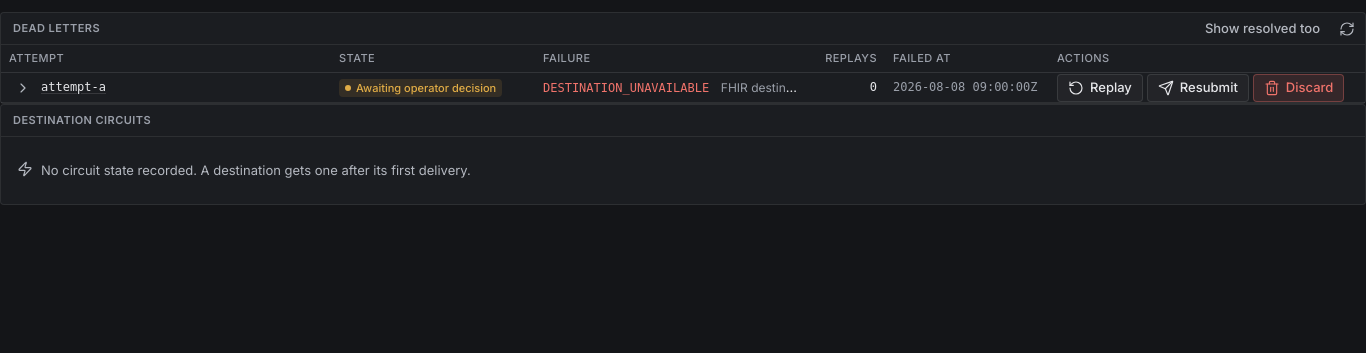
DeliveryConsole › opens a dead letter’s Delivery block on demand, once per row
This screenshot has width=1366, height=353.
Step 1. Click the button named "Show delivery" → (23, 88), box x1=9 y1=74 x2=37 y2=102
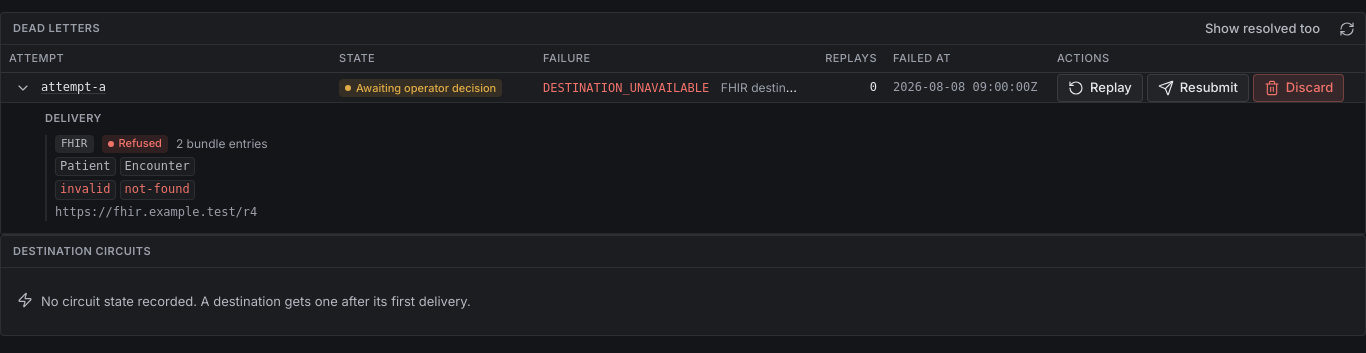
Now the text "FHIR" is shown, box x1=55 y1=135 x2=94 y2=153
Now the text "Refused" is shown, box x1=102 y1=135 x2=168 y2=153
Now the list item "not-found" is shown, box x1=120 y1=180 x2=195 y2=200
Step 2. Click the button named "Hide delivery" → (23, 88), box x1=9 y1=74 x2=37 y2=102
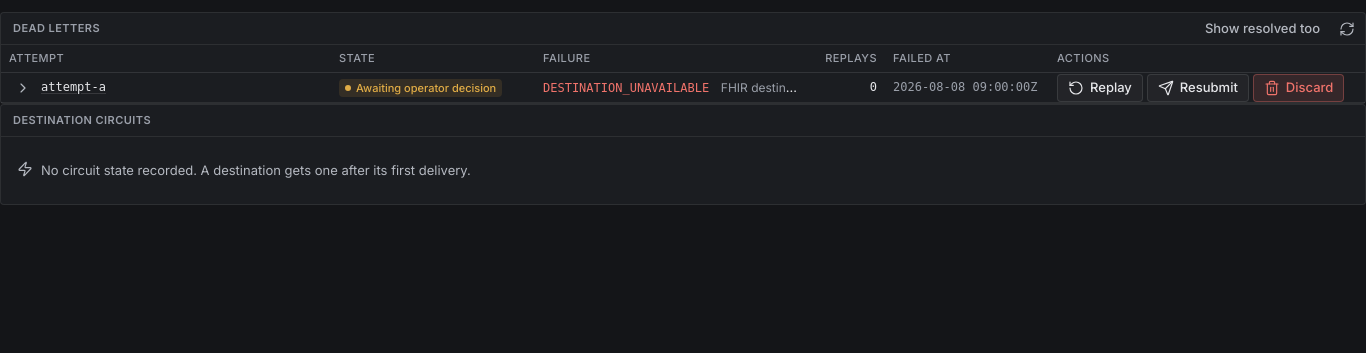
Now the list "Destination deliveries" is gone
Step 3. Click the button named "Show delivery" → (23, 88), box x1=9 y1=74 x2=37 y2=102
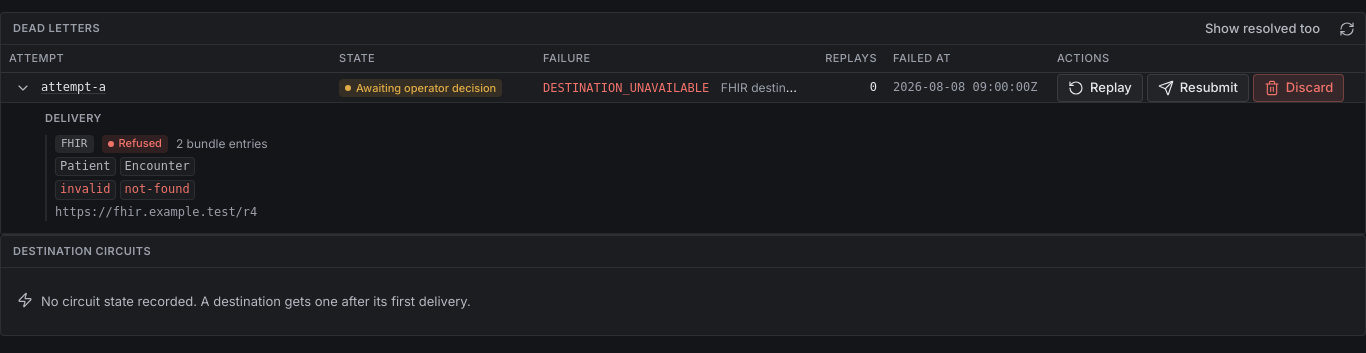
Now the list named "Destination deliveries for attempt-a, newest first" is shown, box x1=45 y1=135 x2=1353 y2=221
